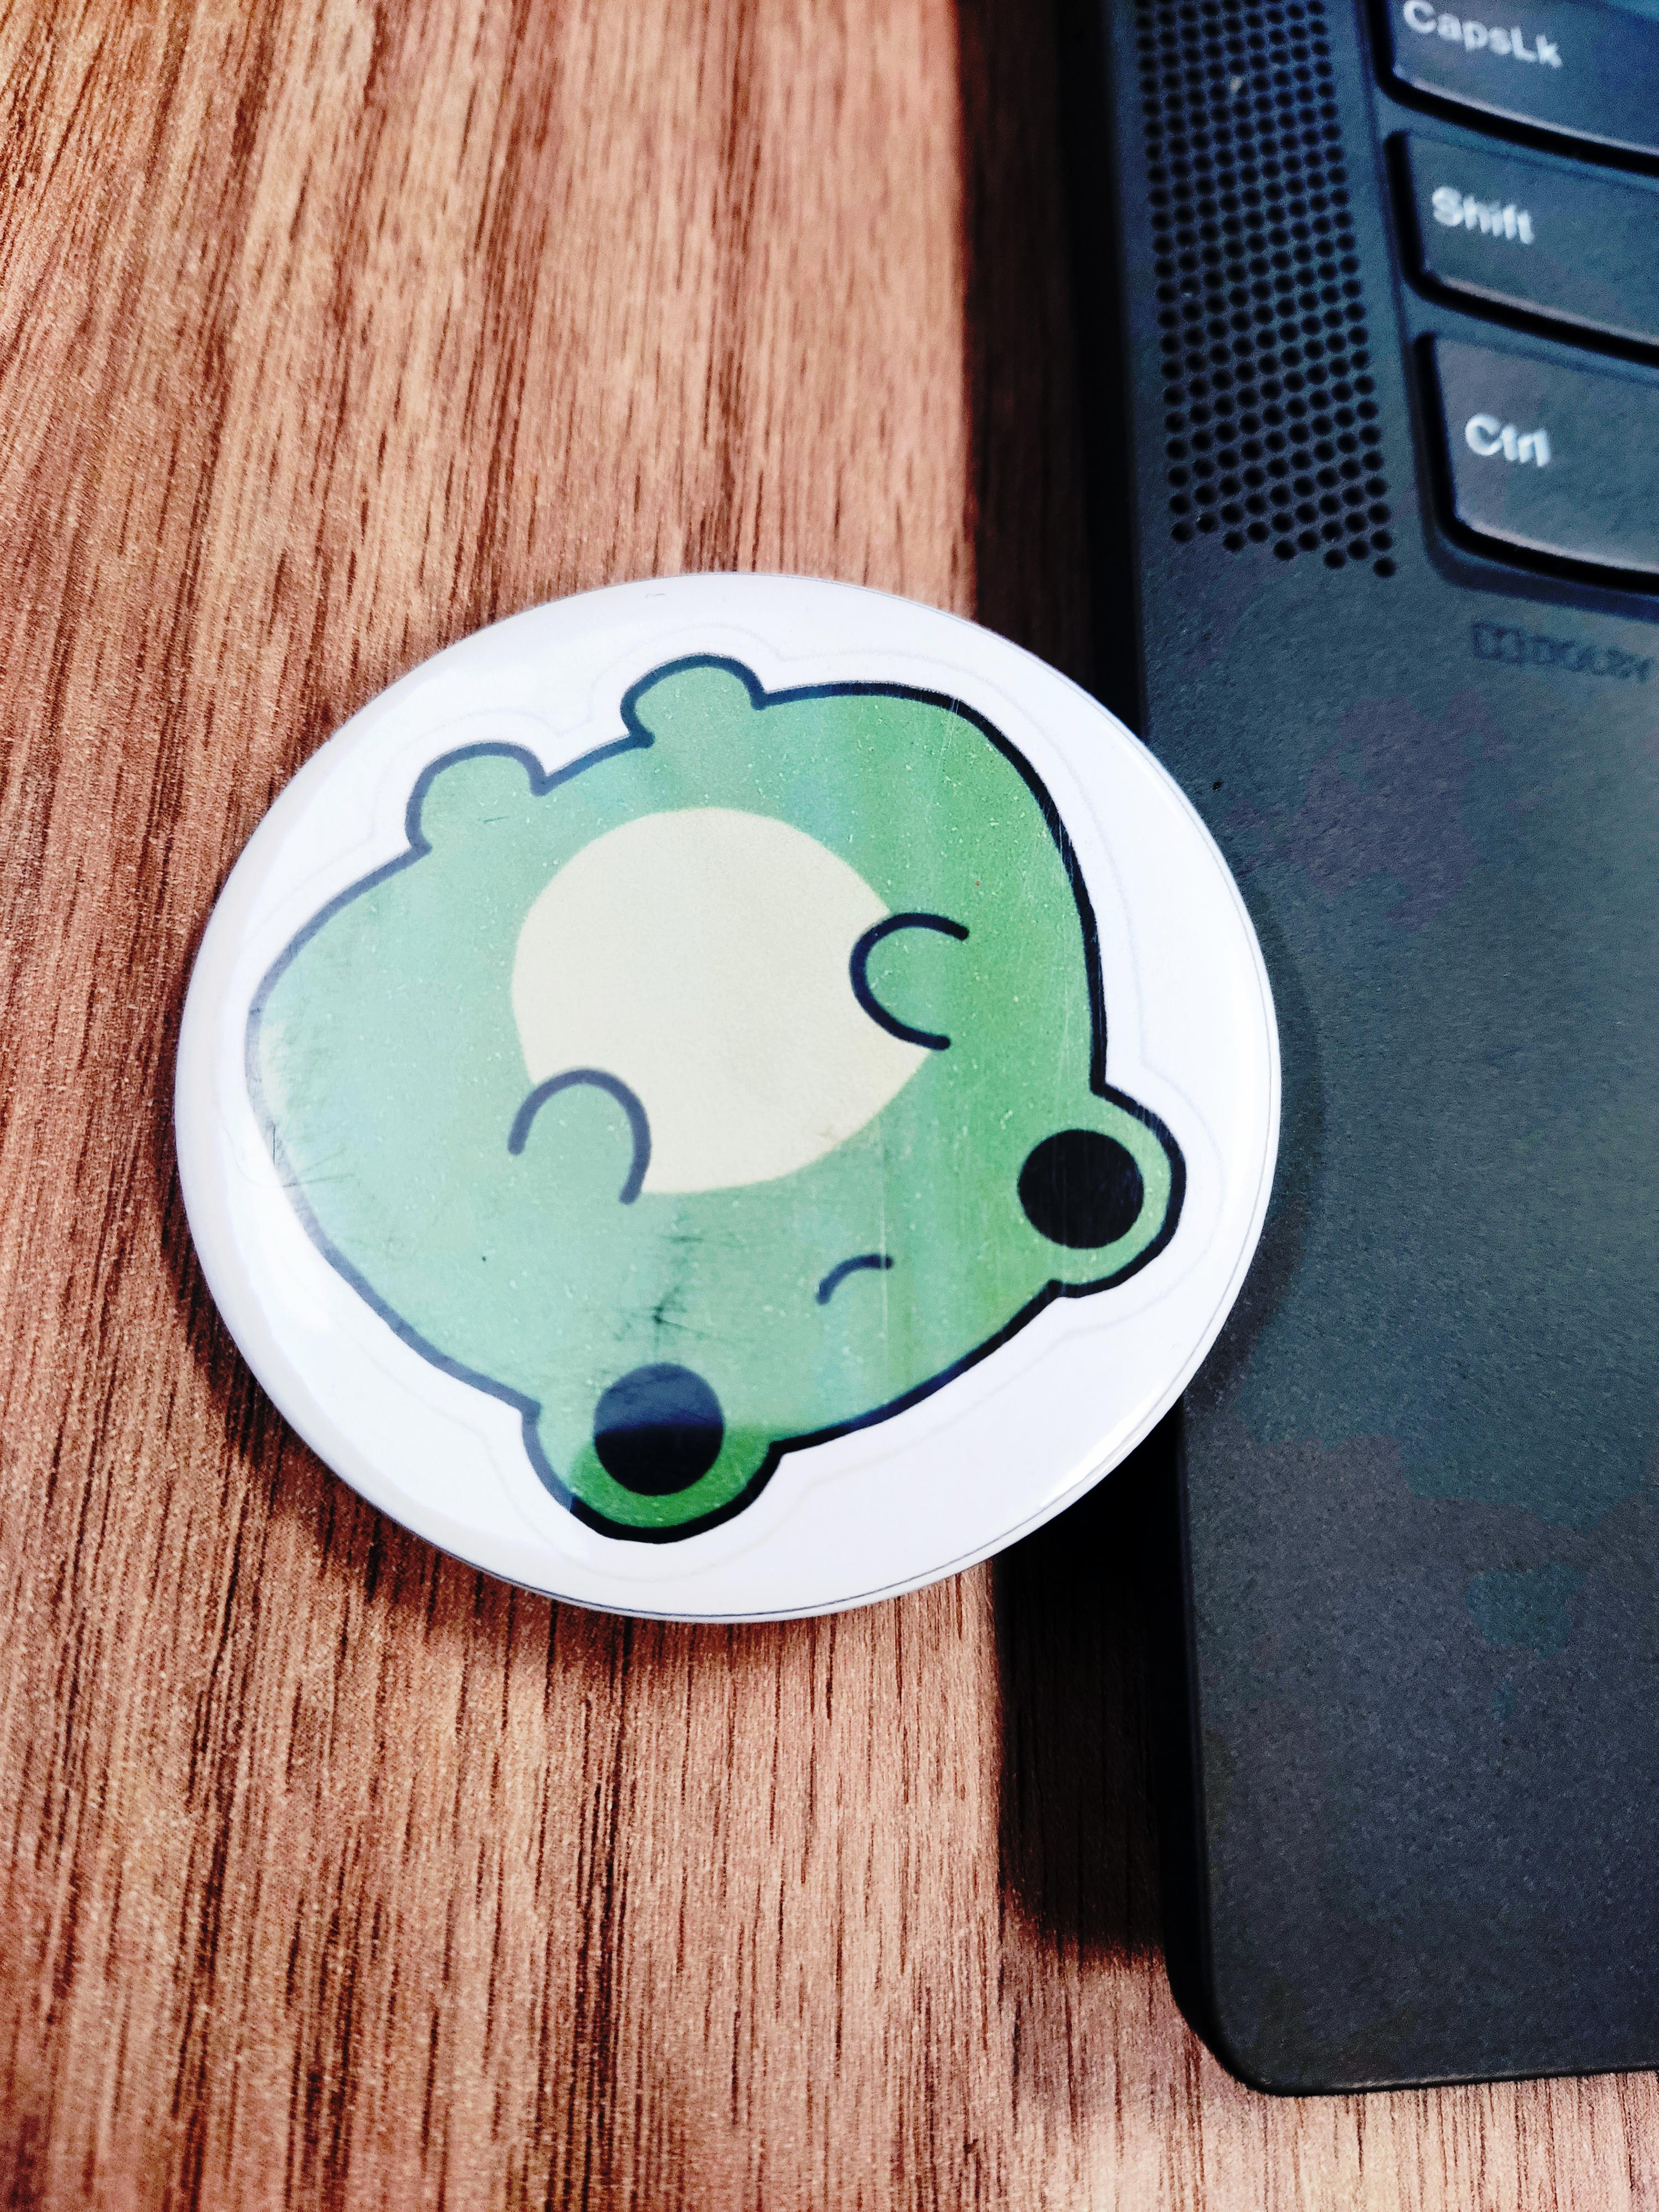pin: (178, 561, 1302, 1632)
